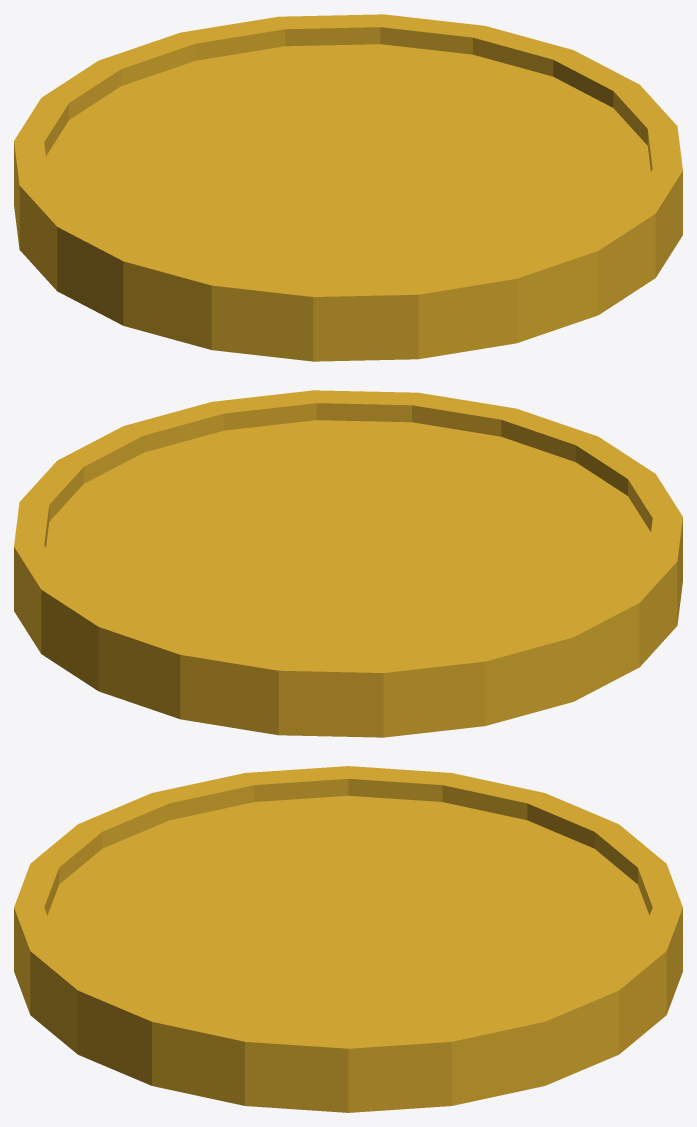
The model's file is peepoCoin.fbx.
3 views of the same model, one above another, from view 1: azimuth 30°, elevation 25°; view 2: azimuth 150°, elevation 25°; view 3: azimuth 270°, elevation 25° (orthographic).
Parts seen in each view (by area): view 1: PeepoCoin; view 2: PeepoCoin; view 3: PeepoCoin.
Part boxes in pixels (left/top/right/bottom): PeepoCoin: left=14, top=14, right=682, bottom=361; PeepoCoin: left=14, top=390, right=682, bottom=737; PeepoCoin: left=14, top=766, right=682, bottom=1112.
Bounding box in the file's own units: 200 × 21.17 × 200.
